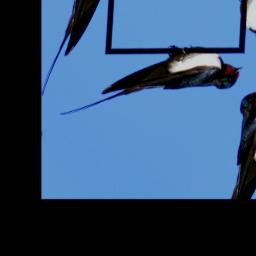Swallow: (57, 0, 249, 187)
